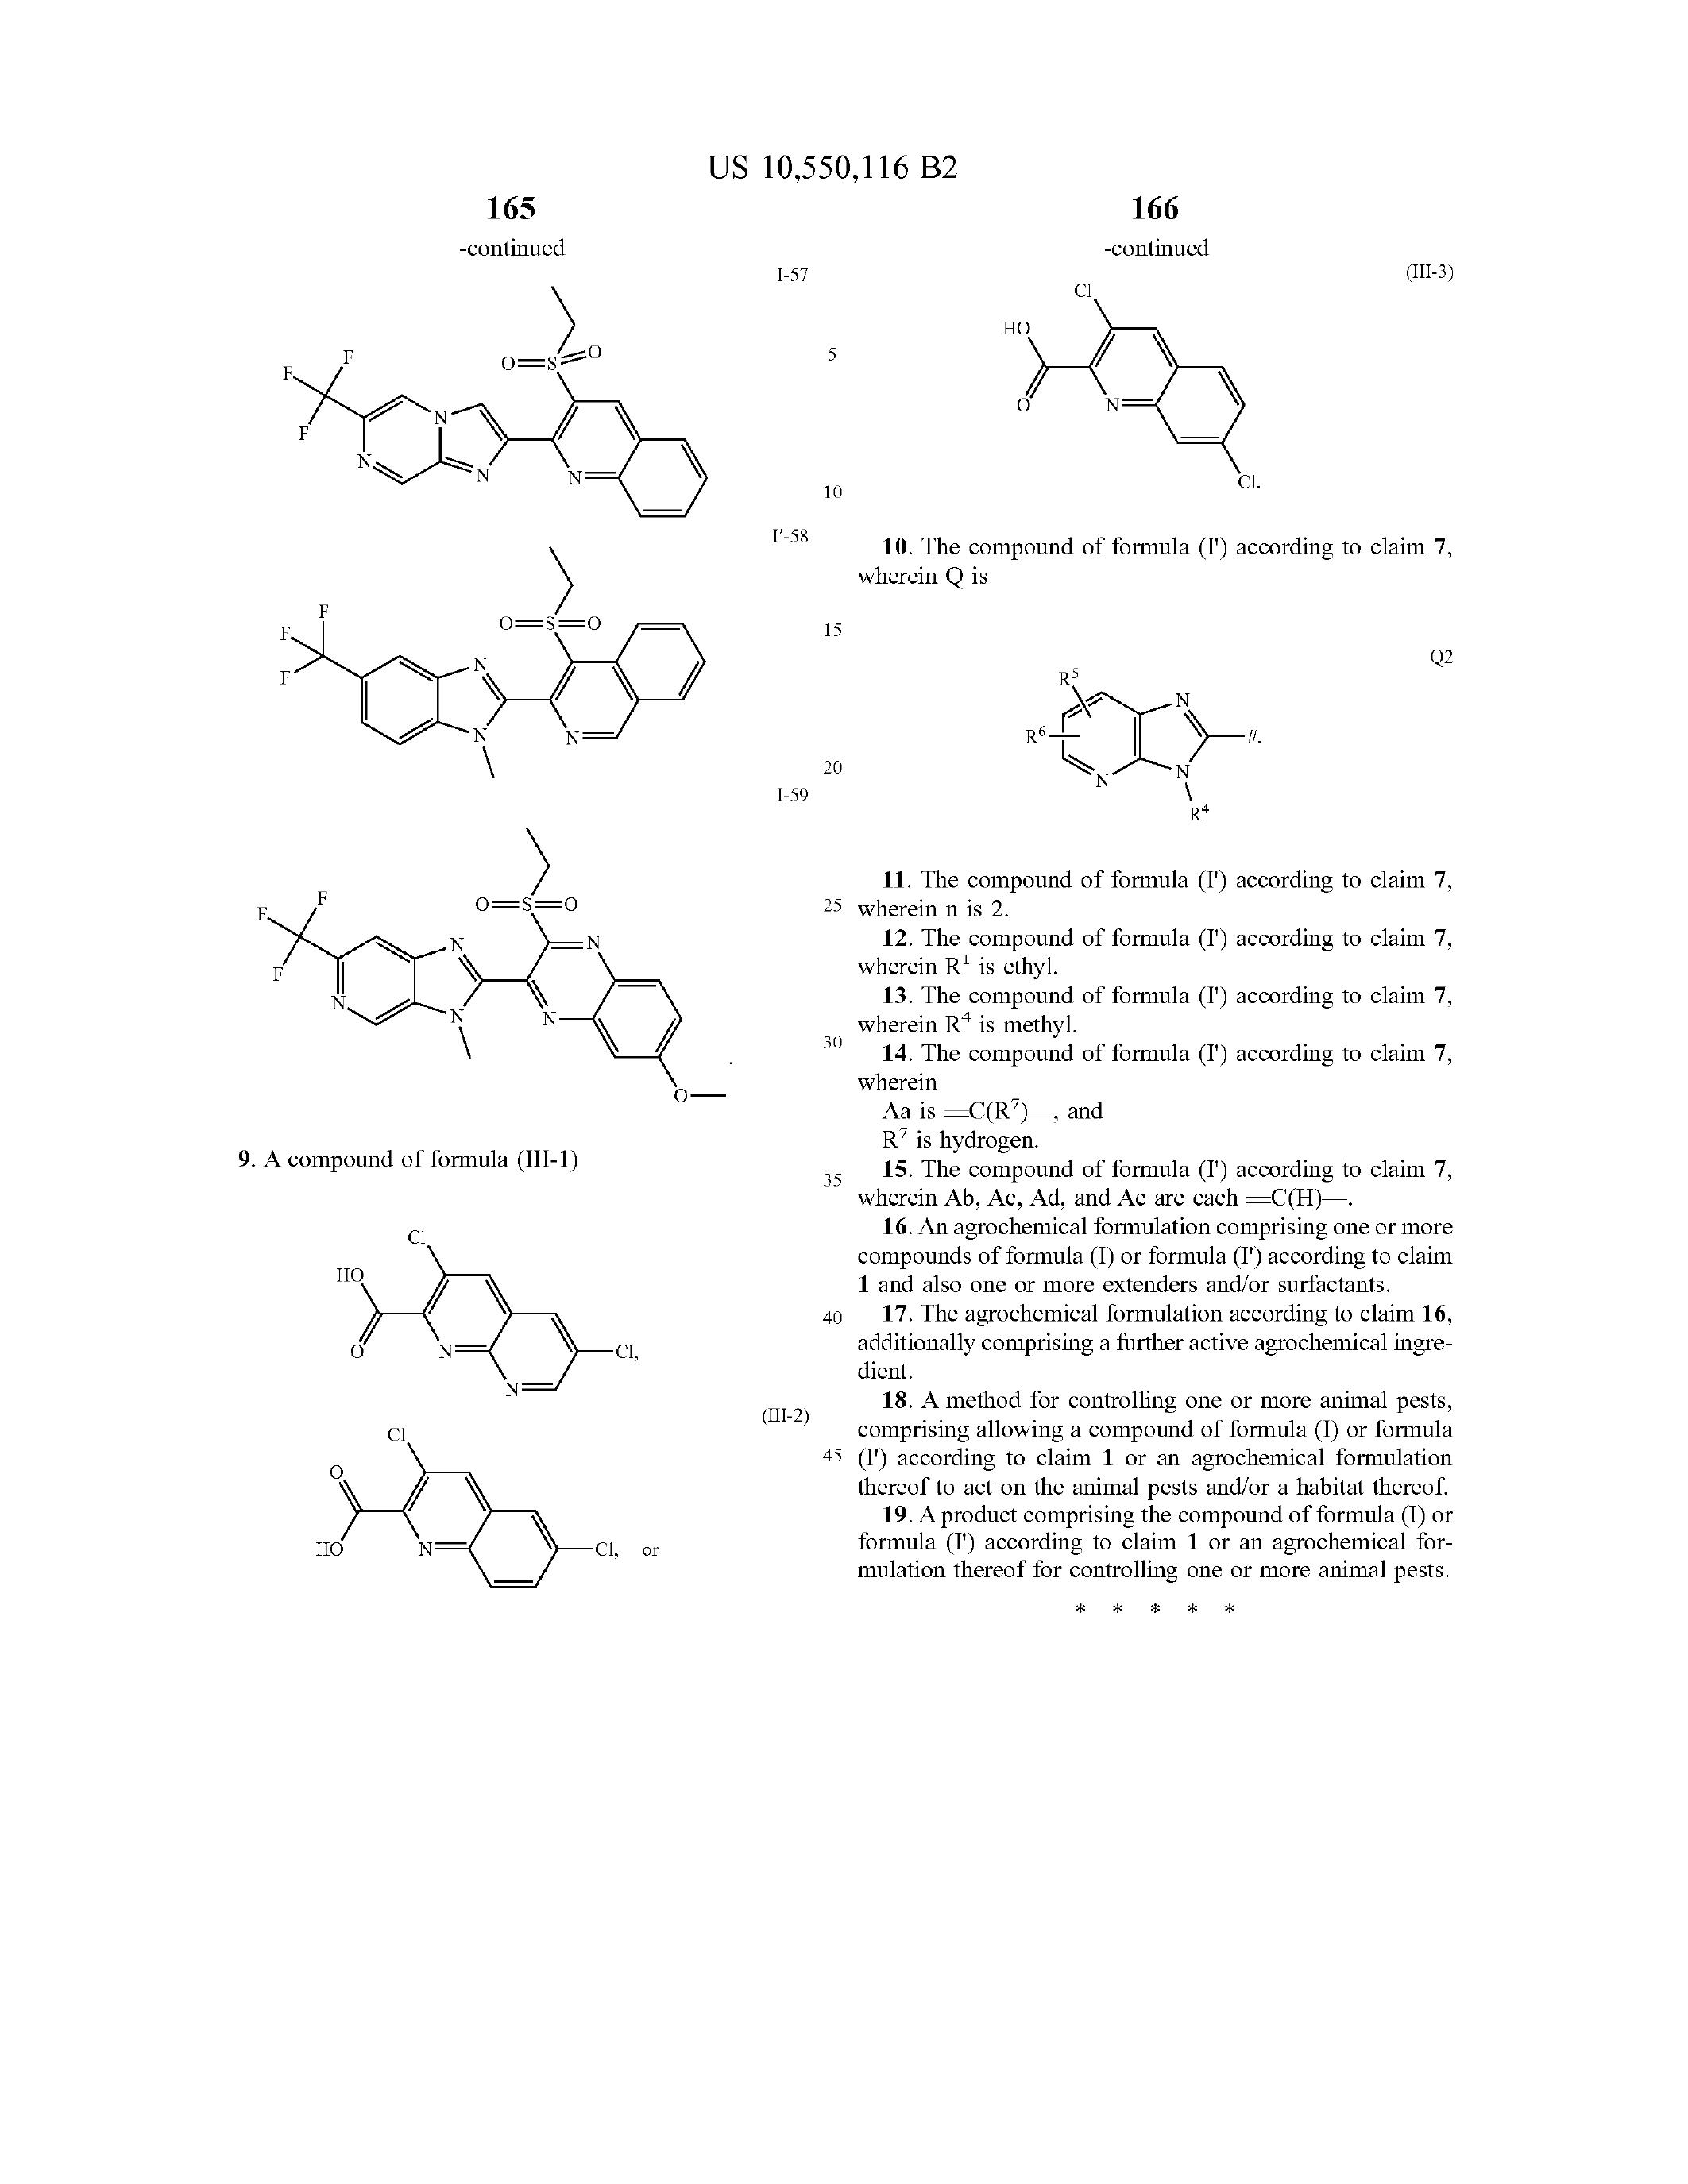relevant-structures: (188, 199, 803, 1112)
